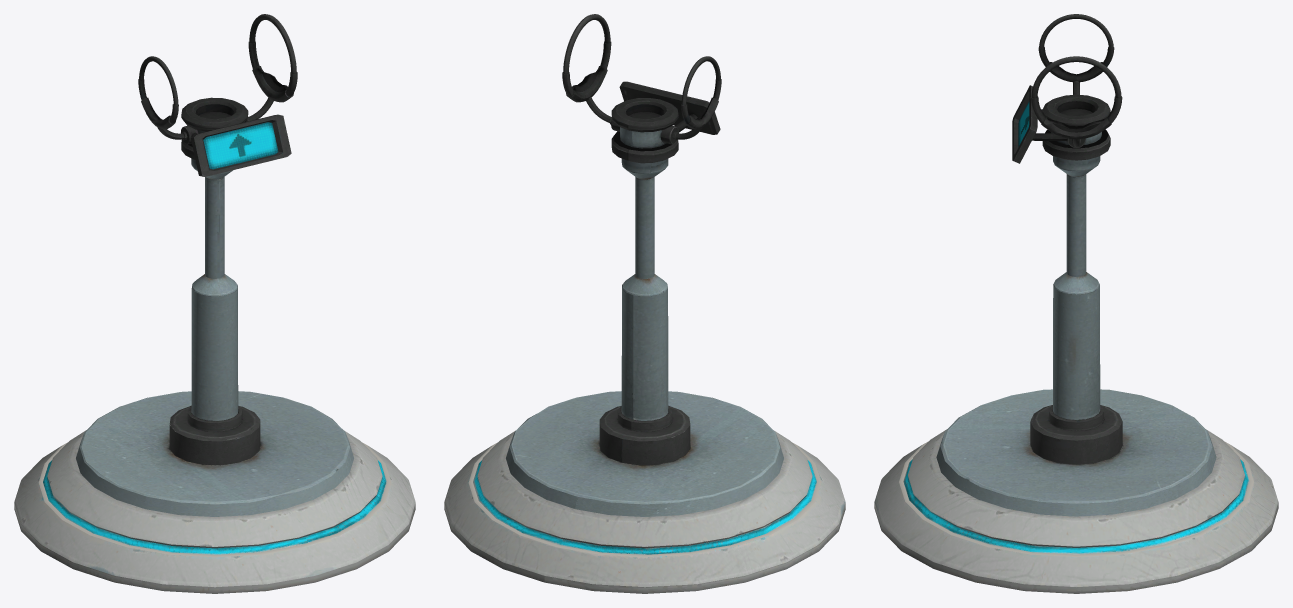
File: portalGunStand.glb
The picture shows the model from 3 angles, left to right: view 1: azimuth 30°, elevation 25°; view 2: azimuth 150°, elevation 25°; view 3: azimuth 270°, elevation 25°; orthographic projection.
Parts seen in each view (by area): view 1: Portalgun_pedestal; view 2: Portalgun_pedestal; view 3: Portalgun_pedestal.
Part boxes in pixels (bbox=[...]): Portalgun_pedestal: bbox=[14, 14, 415, 593]; Portalgun_pedestal: bbox=[444, 14, 845, 593]; Portalgun_pedestal: bbox=[874, 14, 1278, 593].
Size of the model in its own units: 1.14 by 1.5 by 1.14.
Materials: 1 (1 with a texture image).
